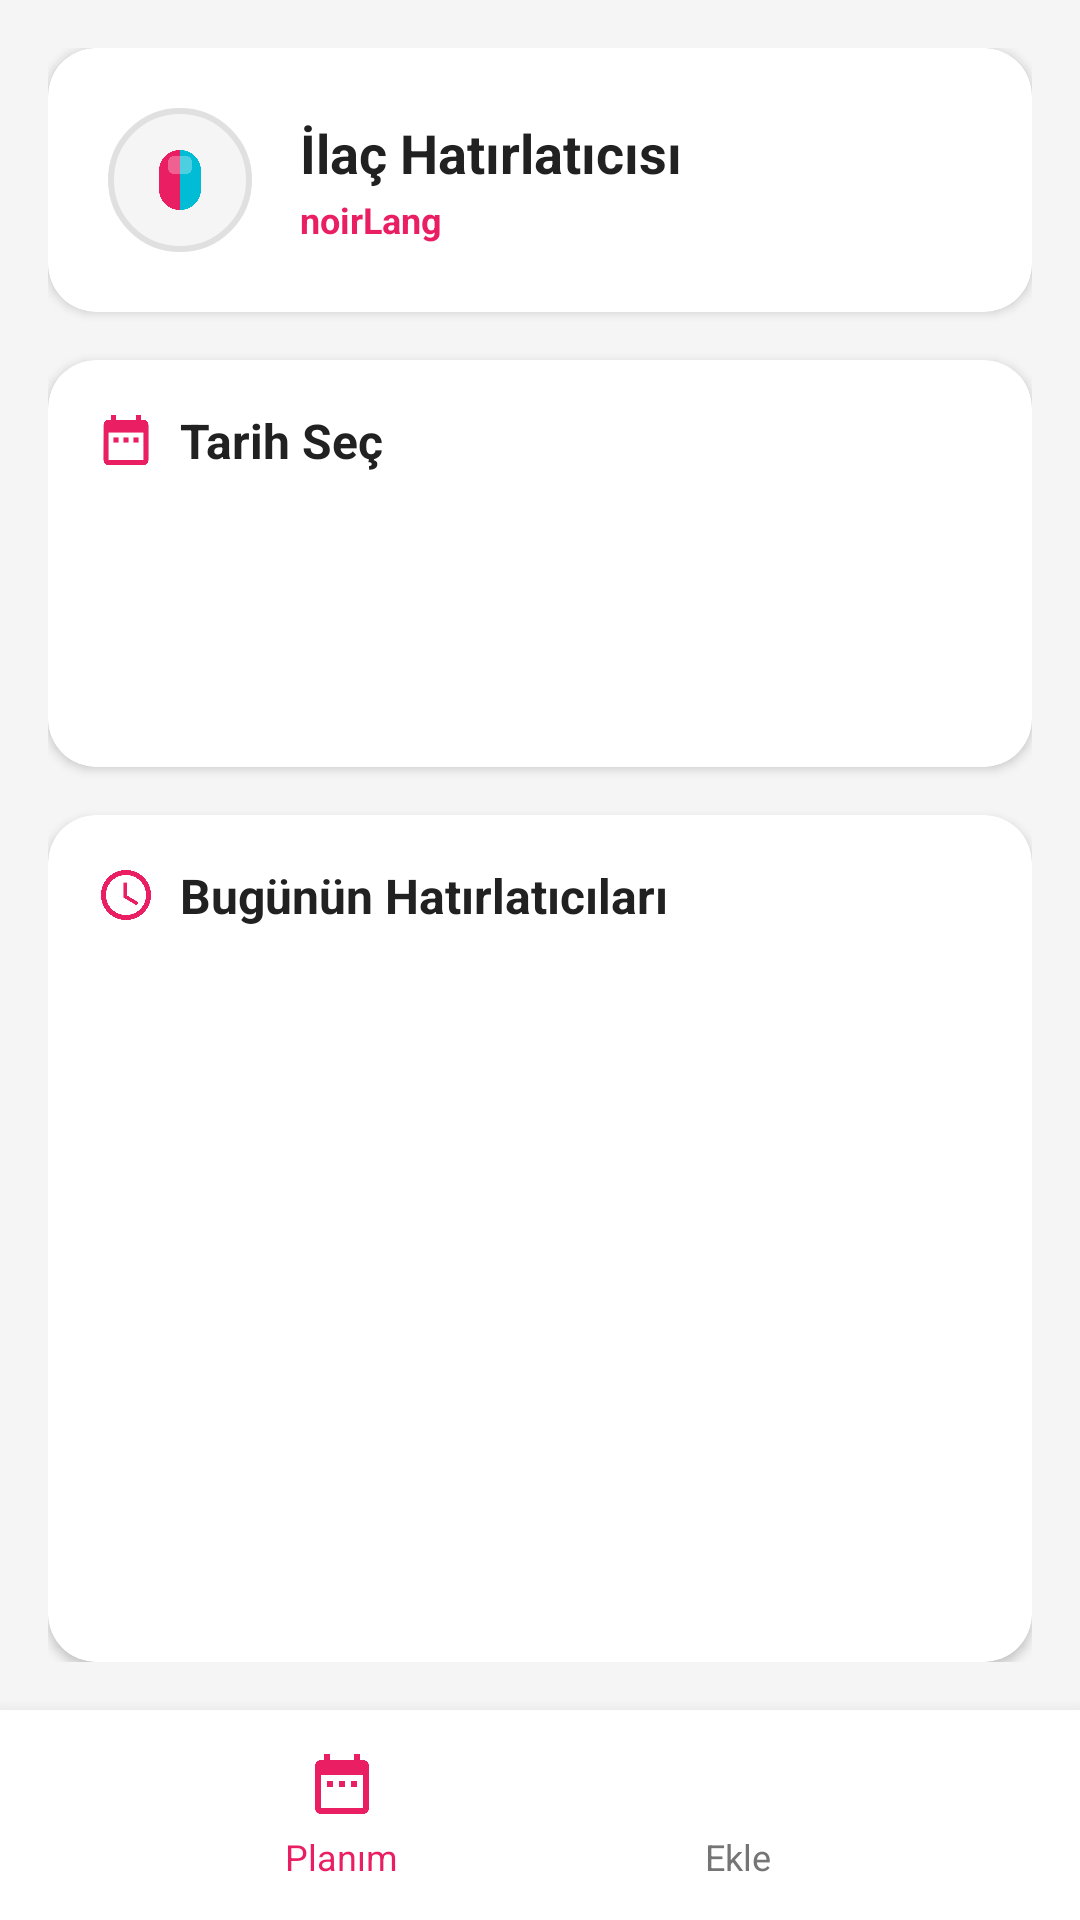

Locate icon controls on the screen. Image size 1080*1920, boxes as (x1, y1, x2, y2).
calendar: (103, 415, 149, 465), (315, 1754, 369, 1814)
pill app: (108, 108, 252, 252)
time: (101, 870, 151, 920)
